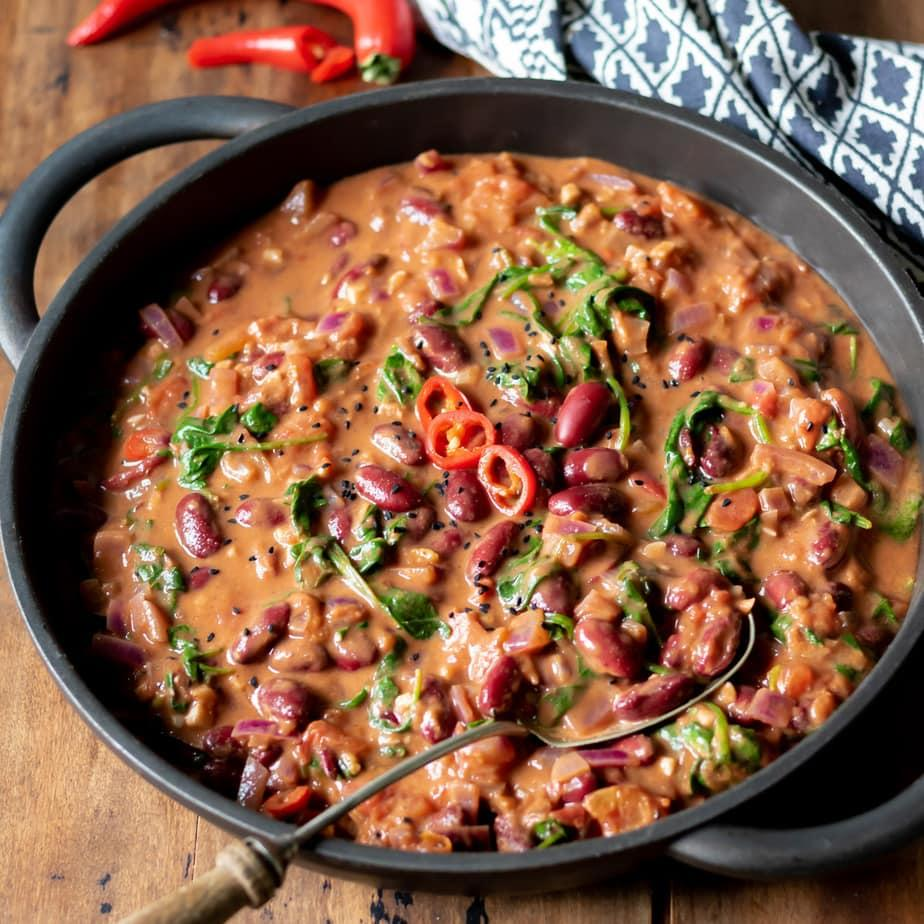rajma: (125, 152, 892, 780)
